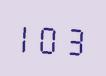one: (18, 18, 39, 55)
three: (63, 20, 84, 57)
zero: (41, 19, 62, 56)
